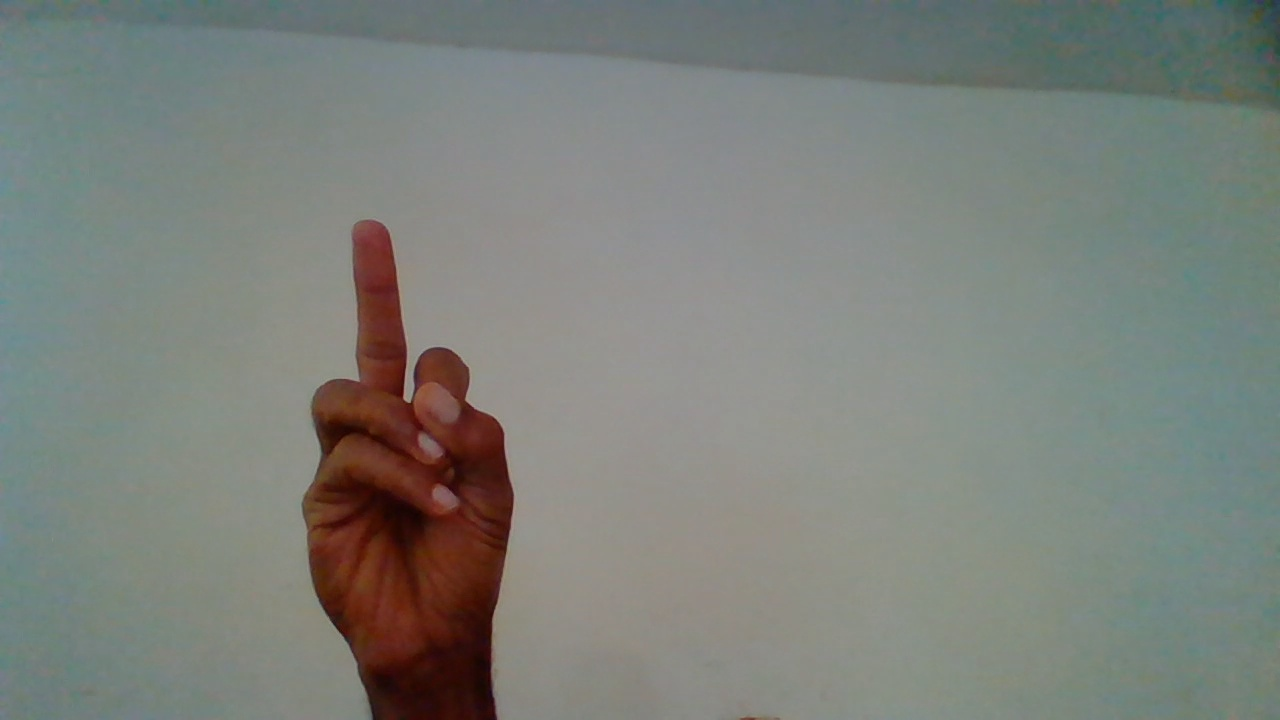he: (301, 222, 514, 701)
